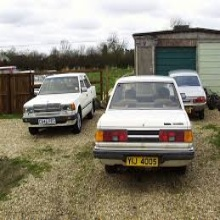no damage: (93, 74, 197, 174), (21, 73, 97, 136), (170, 68, 207, 117)
